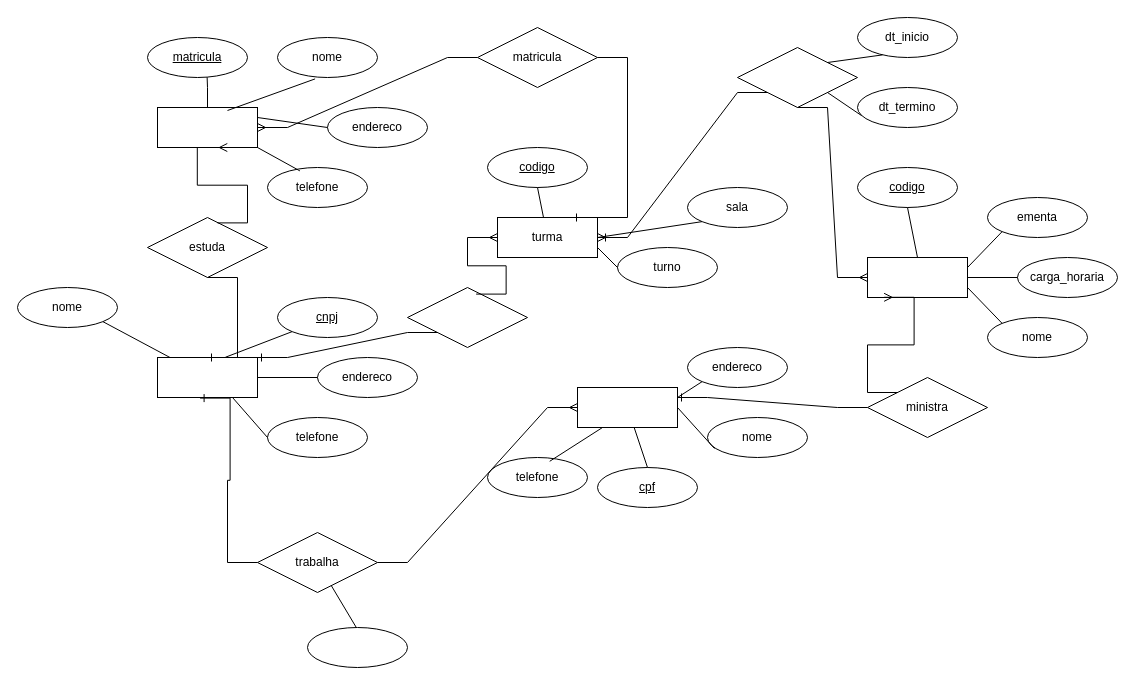
The diagram is 1135 pixels wide and 685 high, and some of its shapes have lost their labels. Each missing label, with the centre of its shape:
aluno: (207,127)
disciplina: (917,277)
dt_admissao: (357,647)
escola: (207,377)
possui: (467,317)
professor: (627,407)
tem: (797,77)
